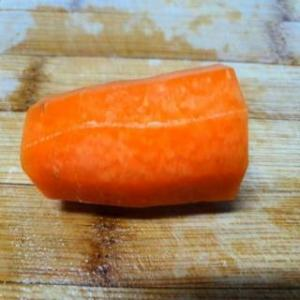carrot: (18, 62, 252, 210)
